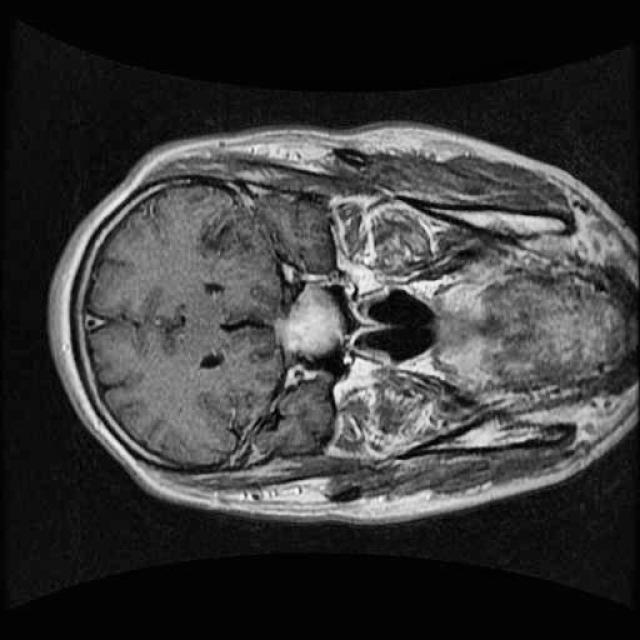Tumor: (272, 271, 348, 365)
